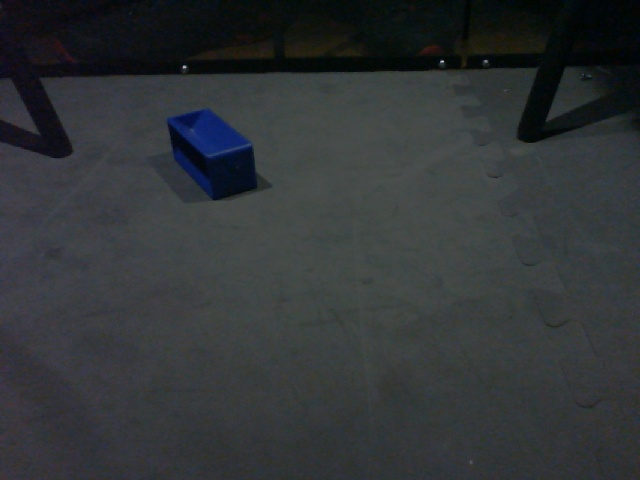BlueSample: (166, 103, 258, 207)
